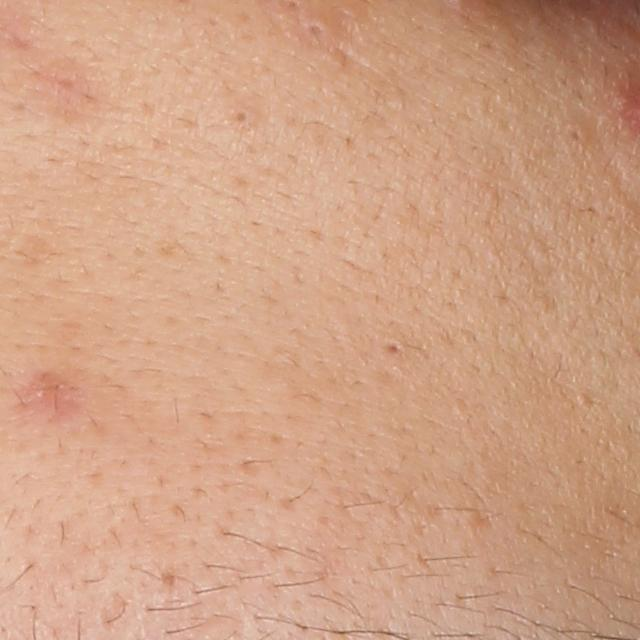comedo: (305, 20, 330, 41), (231, 109, 255, 129), (565, 127, 586, 146), (385, 339, 404, 357)
